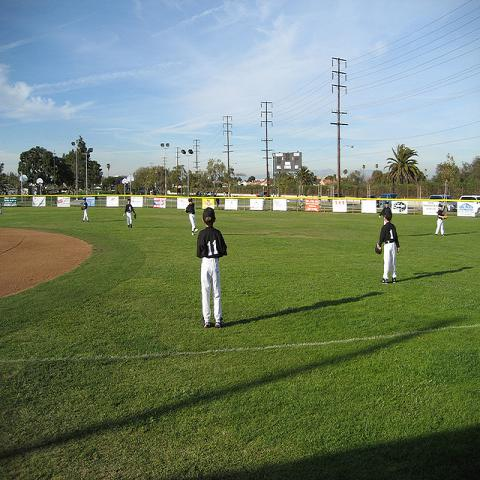car: (429, 195, 457, 212), (361, 194, 382, 208), (379, 194, 400, 208), (459, 195, 479, 200), (361, 195, 375, 198)
